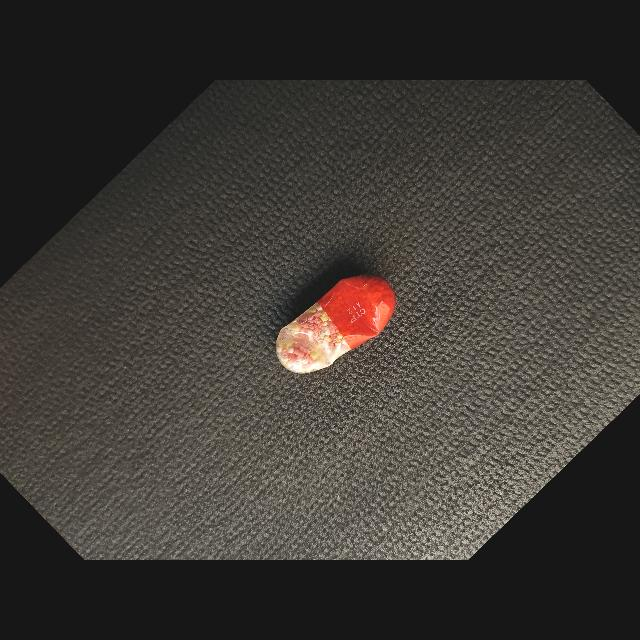Defective Capsule: (276, 274, 396, 374)
